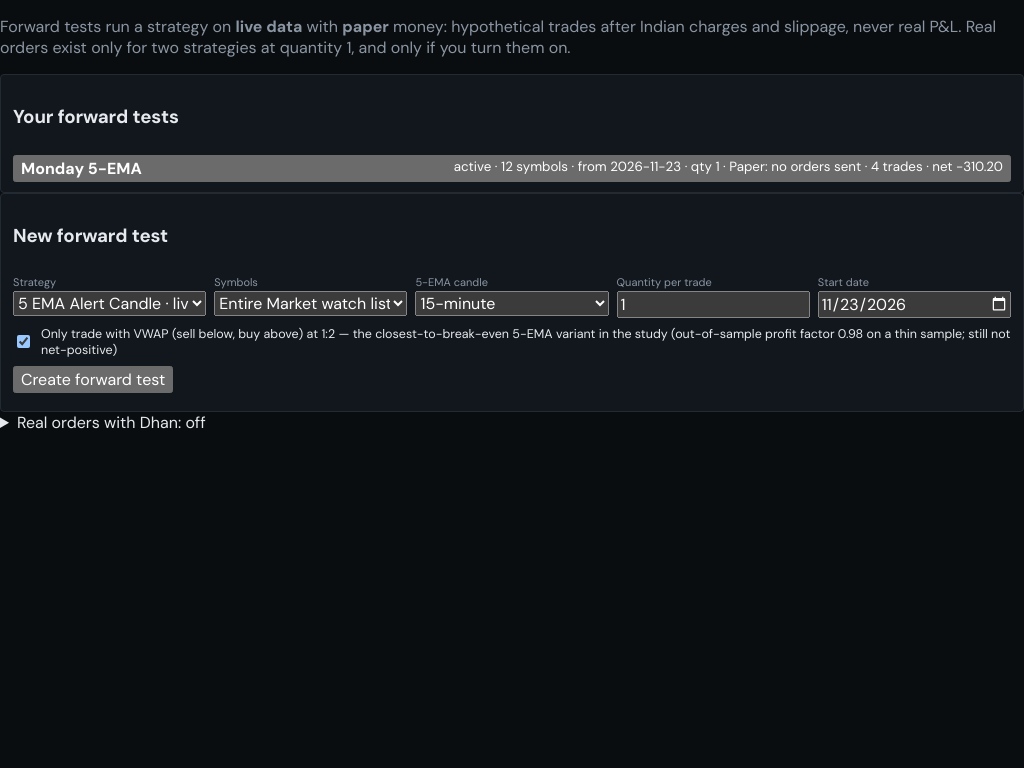
Test case: ForwardTest › opens a test and shows data freshness, honest paper results with charges and slippage, open positions, closed trades and this pass's live decisions
The image size is (1024, 768).
Click the button "Monday 5-EMA" at (512, 169), box [13,155,1011,182]
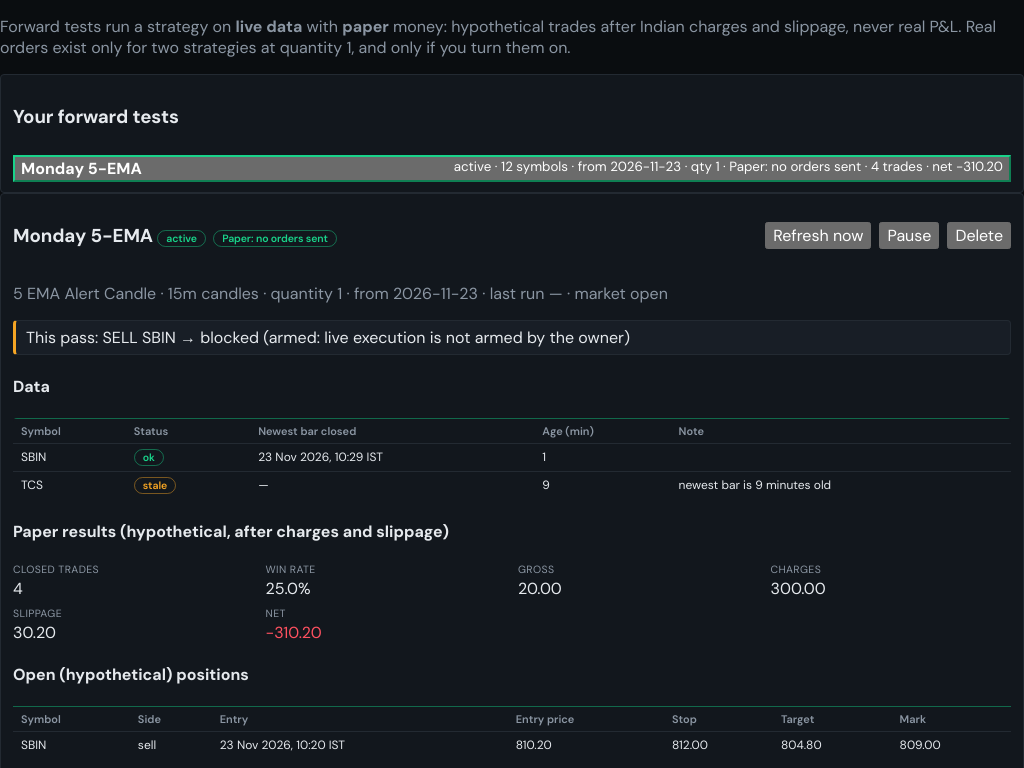
Check: the text "stale" is shown, box [134,477,176,494]
Check: the text "newest bar is 9 minutes old" is shown, box [671,472,1011,499]
Check: the text "25.0%" is shown, box [266,578,310,599]
